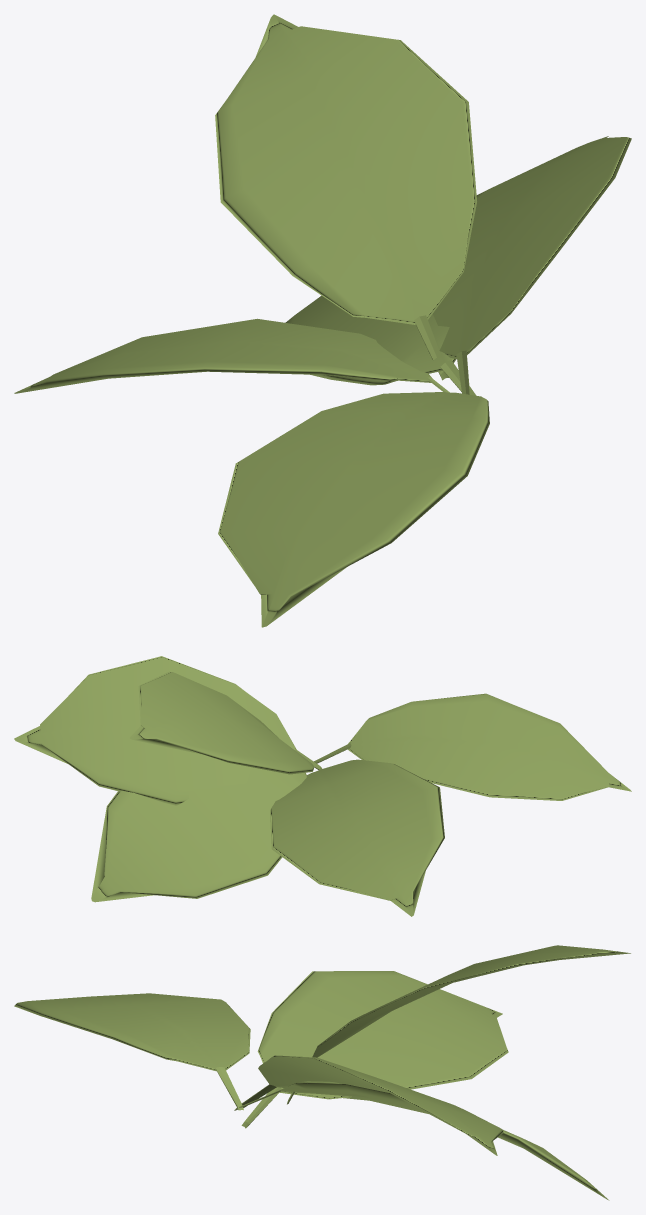
The model's file is fixed pivot one cluster reduced.fbx.
3 views of the same model, one above another, from view 1: azimuth 30°, elevation 25°; view 2: azimuth 150°, elevation 25°; view 3: azimuth 270°, elevation 25° (orthographic). The views are drawn at different scales.
Parts seen in each view (by area): view 1: polySurface24, polySurface28, polySurface25, polySurface27, polySurface26; view 2: polySurface27, polySurface28, polySurface26, polySurface25, polySurface24; view 3: polySurface27, polySurface28, polySurface25, polySurface24, polySurface26.
Boxes of the visible parts, x1=… form: polySurface24: x1=215, y1=14, x2=476, y2=380; polySurface28: x1=218, y1=392, x2=489, y2=627; polySurface25: x1=433, y1=136, x2=631, y2=394; polySurface27: x1=14, y1=318, x2=449, y2=393; polySurface26: x1=285, y1=295, x2=475, y2=395; polySurface27: x1=270, y1=759, x2=444, y2=916; polySurface28: x1=314, y1=693, x2=631, y2=800; polySurface26: x1=91, y1=768, x2=306, y2=902; polySurface25: x1=14, y1=656, x2=322, y2=805; polySurface24: x1=130, y1=671, x2=314, y2=774; polySurface27: x1=241, y1=971, x2=508, y2=1128; polySurface28: x1=14, y1=993, x2=250, y2=1110; polySurface25: x1=236, y1=1055, x2=503, y2=1155; polySurface24: x1=287, y1=945, x2=630, y2=1104; polySurface26: x1=234, y1=1081, x2=609, y2=1200.
Bounding box in the file's own units: 7.6 × 3.25 × 7.86.
